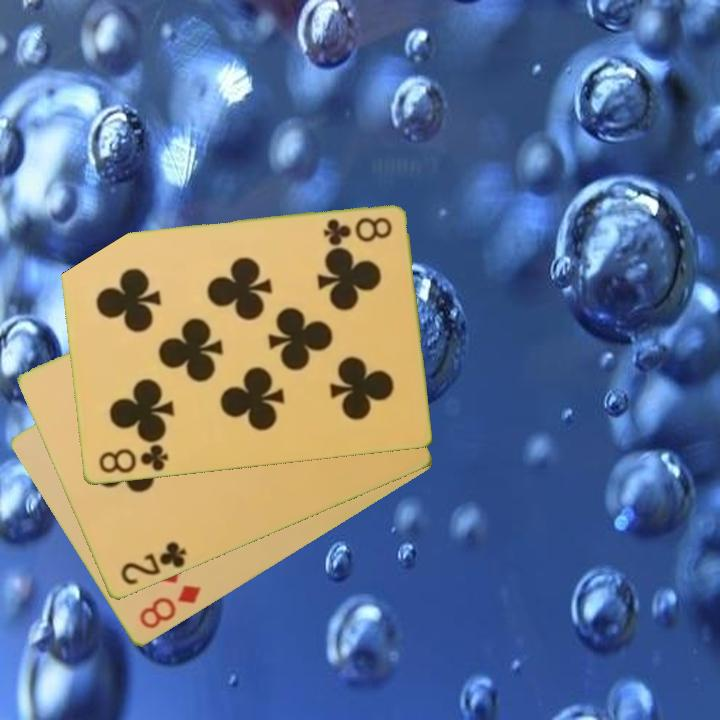2c: (116, 538, 190, 589)
8c: (94, 441, 171, 477), (319, 214, 395, 248)
8d: (135, 582, 204, 633)
